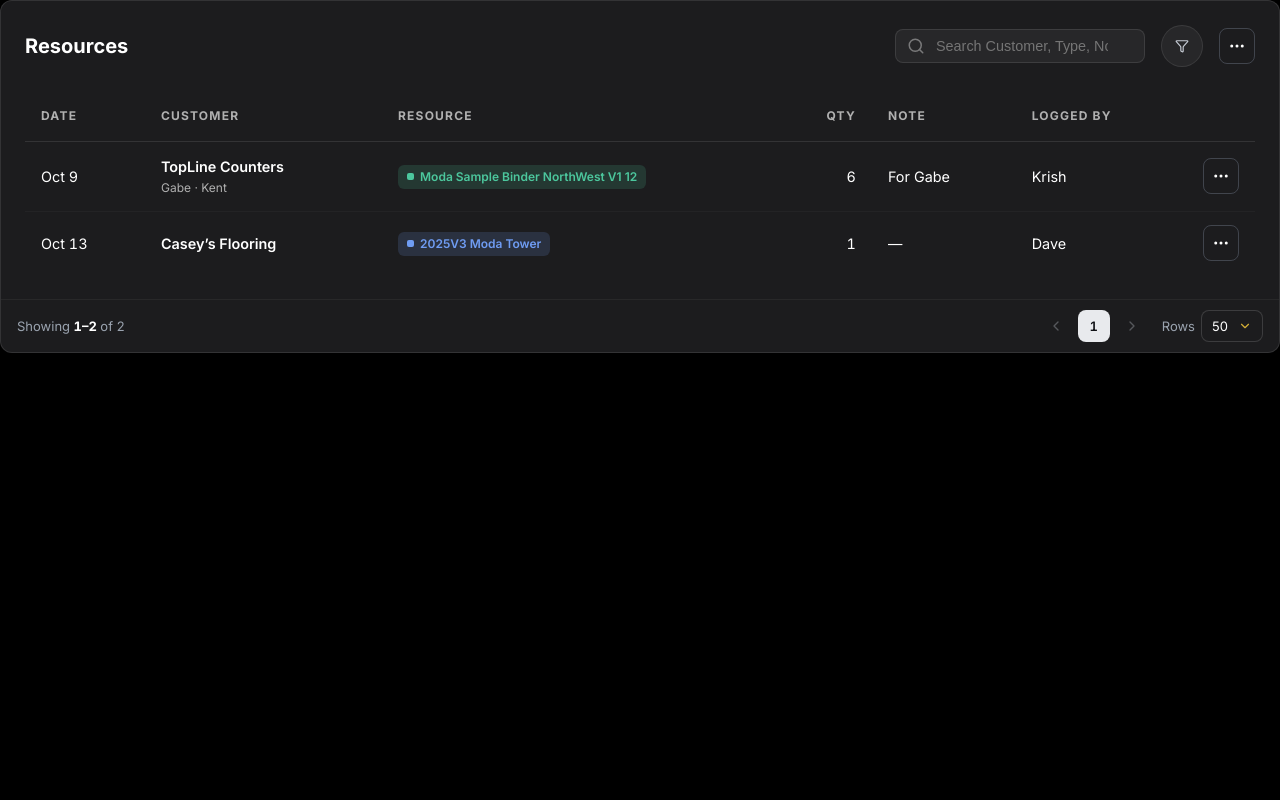
Resources tab › filters by resource type from the Filters panel, with a tag to take it off
Click the button named "Filters" at (1182, 46), box [1161,25,1203,67]
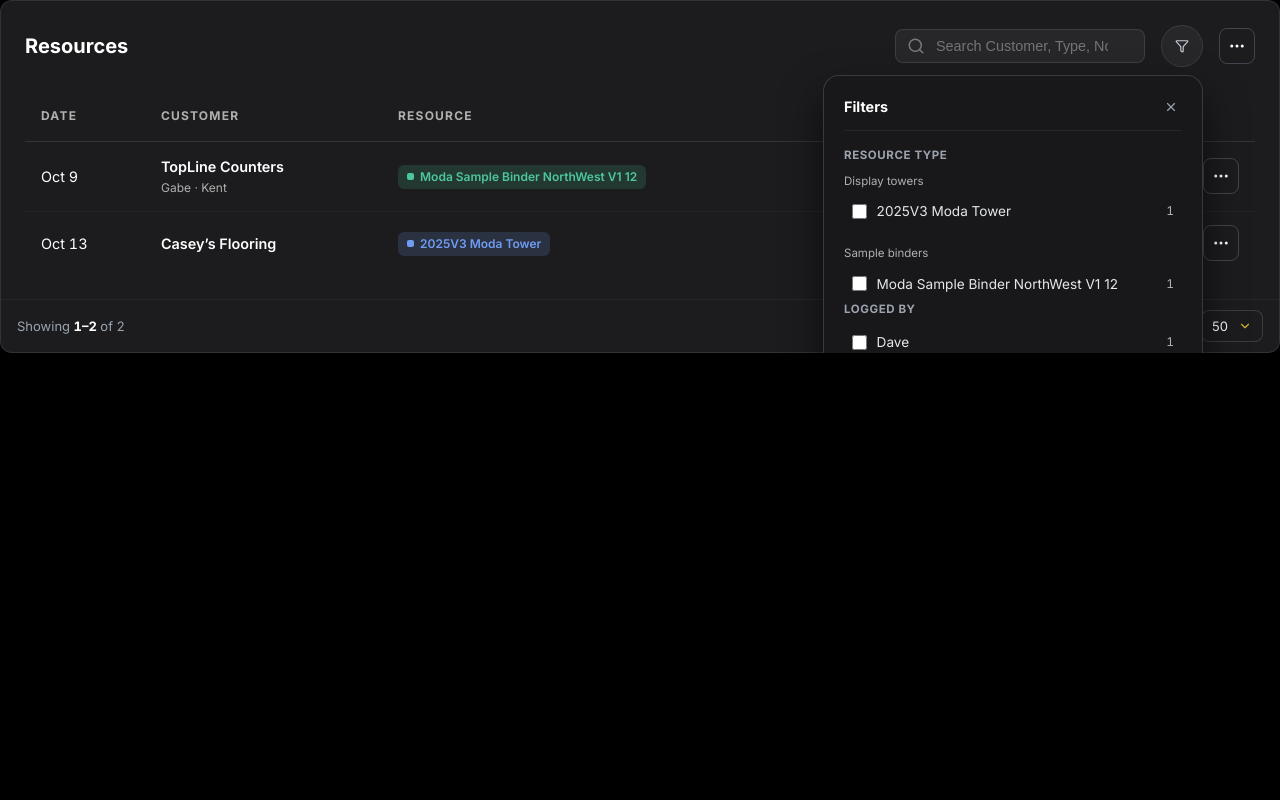
Expected: the text "Display towers" is shown, [844,174,924,188]
Click the checkbox labelled "2025V3 Moda Tower 1" at (860, 211), box [852,204,867,219]
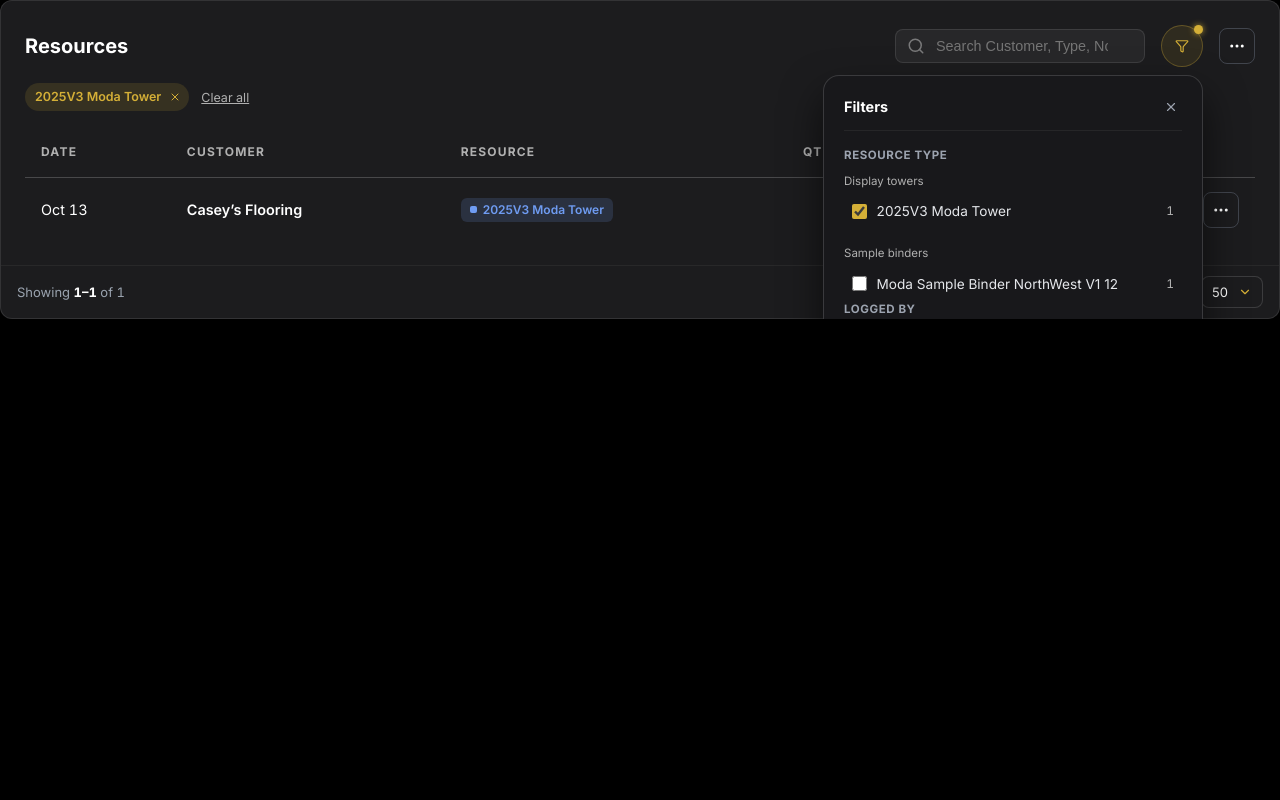
Expected: the text "TopLine Counters" is gone
Click the button named "Remove 2025V3 Moda Tower" at (175, 97), box [165,87,185,107]
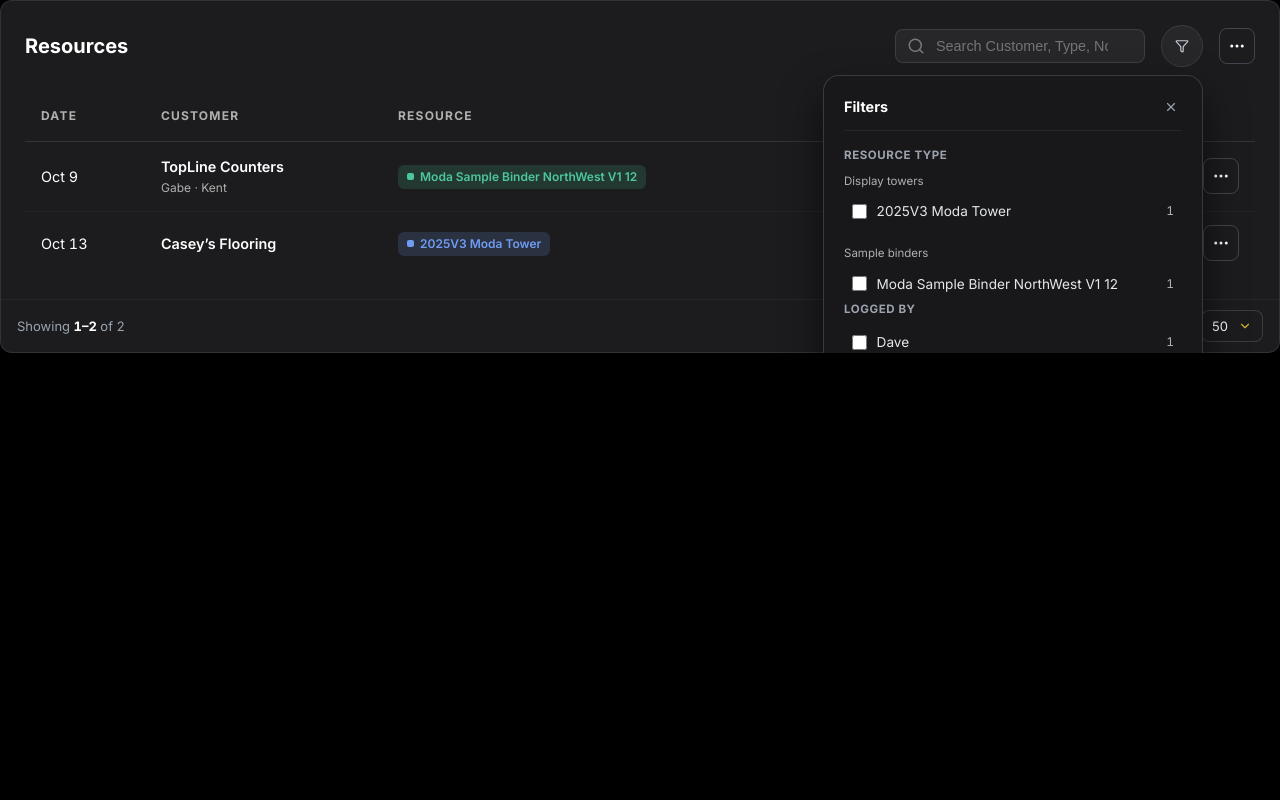
Expected: the text "TopLine Counters" is shown, [161,158,284,175]
